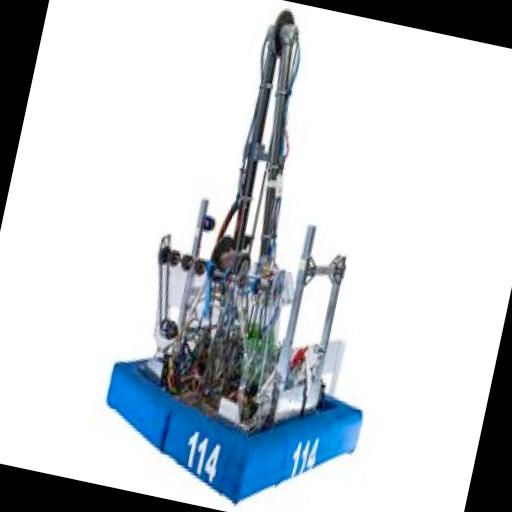robot: (73, 0, 448, 512)
